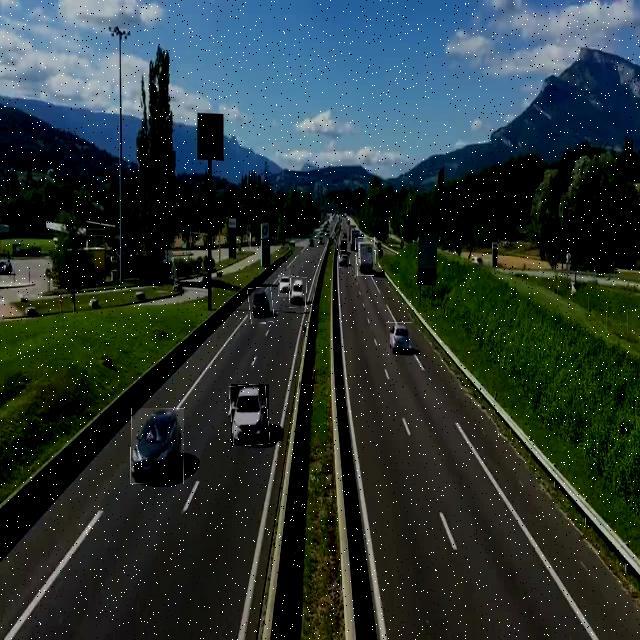Car: (131, 408, 184, 484), (231, 384, 269, 446), (248, 288, 273, 324), (387, 322, 412, 357), (290, 277, 306, 308), (278, 276, 292, 298), (340, 251, 350, 268)
Truck: (355, 238, 376, 276)
